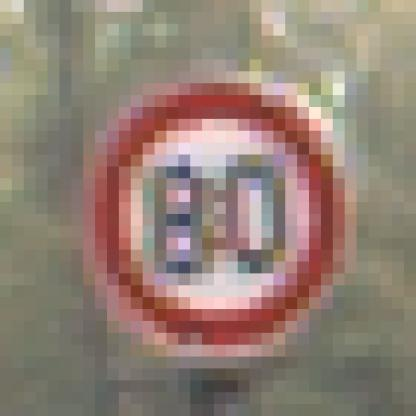Speed Limit 80: (98, 88, 344, 347)
